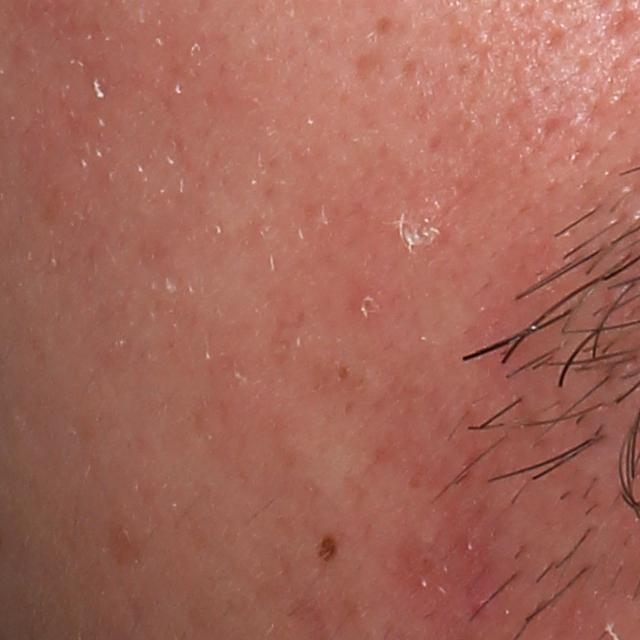nevus: (313, 528, 340, 568)
